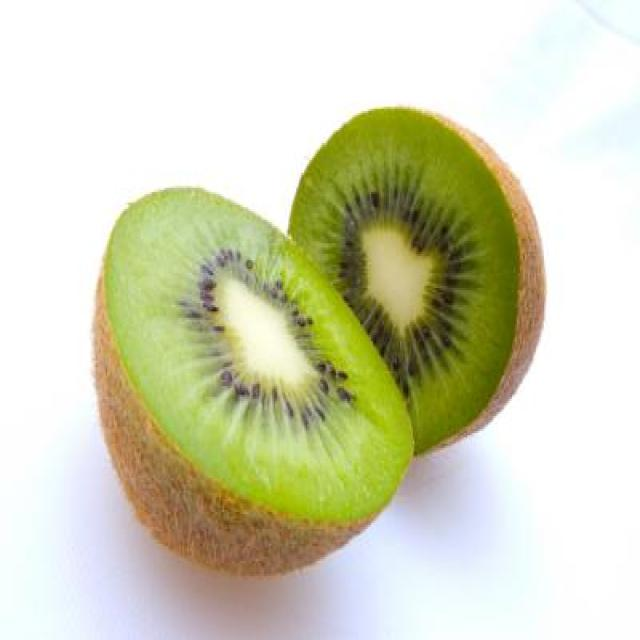Qiwi: (94, 198, 407, 604), (304, 94, 585, 447)
